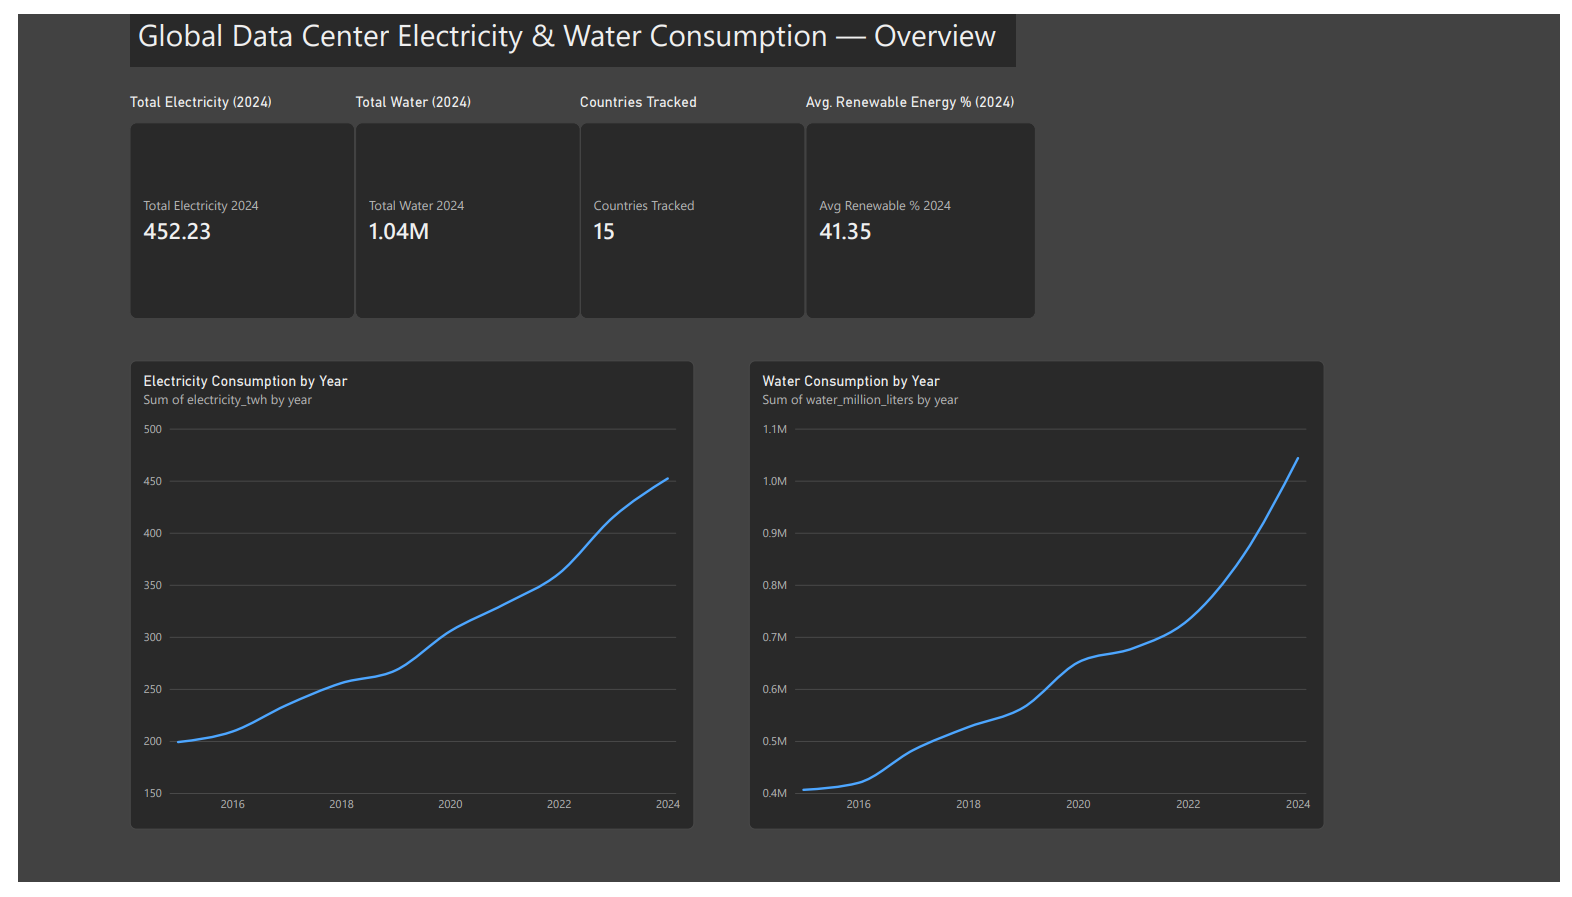

The dashboard page shown, as its layout file describes it:
{"tool":"powerbi","page":{"name":"Overview","canvas":[1920,1080],"ordinal":0},"visuals":[{"type":"cardVisual","title":"Total Electricity (2024)","fields":{"Data":["datacenter_clean.Total Electricity 2024"]},"box":[138.9,99.2,280.6,280.6],"z":0},{"type":"cardVisual","title":"Total Water (2024)","fields":{"Data":["datacenter_clean.Total Water 2024"]},"box":[419.5,99.2,280.6,280.6],"z":1000},{"type":"cardVisual","title":"Countries Tracked","fields":{"Data":["datacenter_clean.Countries Tracked"]},"box":[700.2,99.2,280.6,280.6],"z":2000},{"type":"cardVisual","title":"Avg. Renewable Energy % (2024)","fields":{"Data":["datacenter_clean.Avg Renewable % 2024"]},"box":[980.8,99.2,286.3,280.6],"z":3000},{"type":"lineChart","title":"Electricity Consumption by Year","fields":{"Category":["datacenter_clean.year"],"Y":["Sum(datacenter_clean.electricity_twh)"]},"box":[138.9,430.9,703,583.9],"z":4000},{"type":"lineChart","title":"Water Consumption by Year","fields":{"Category":["datacenter_clean.year"],"Y":["Sum(datacenter_clean.water_million_liters)"]},"box":[909.9,430.9,717.2,583.9],"z":5000},{"type":"textbox","box":[138.9,0,1102.7,65.2],"z":5001}]}

Visuals, with their boxes in screenshot pixels (x1, y1, x2, y2), scaled from the page's 1920x1080 canvas onto the 1572x897 screenshot:
"Total Electricity (2024)" cardVisual: select_region(114, 82, 343, 315)
"Total Water (2024)" cardVisual: select_region(343, 82, 573, 315)
"Countries Tracked" cardVisual: select_region(573, 82, 803, 315)
"Avg. Renewable Energy % (2024)" cardVisual: select_region(803, 82, 1037, 315)
"Electricity Consumption by Year" lineChart: select_region(114, 358, 689, 843)
"Water Consumption by Year" lineChart: select_region(745, 358, 1332, 843)
textbox: select_region(114, 0, 1017, 54)
